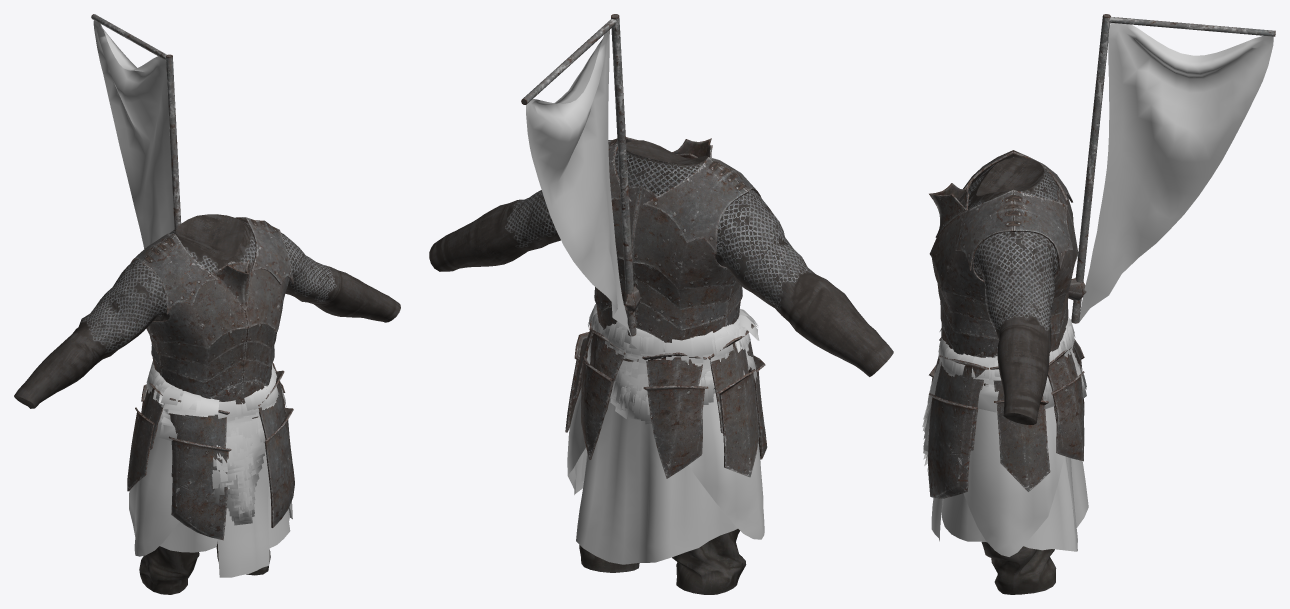
The model's file is sk_gb_uruk_chest_lord_b.fbx.
3 views of the same model, side by side, from view 1: azimuth 30°, elevation 25°; view 2: azimuth 150°, elevation 25°; view 3: azimuth 270°, elevation 25° (orthographic). The views are drawn at different scales.
Parts seen in each view (by area): view 1: sk_gb_uruk_chest_lord_b.base.2, sk_gb_uruk_chest_lord_b.base.1, sk_gb_uruk_chest_lord_b.prop.1, sk_gb_uruk_chest_lord_b.skirt.1, sk_gb_uruk_chest_lord_b.skirt.2, sk_gb_uruk_chest_lord_b.base.0, sk_gb_uruk_chest_lord_b.prop.0; view 2: sk_gb_uruk_chest_lord_b.base.2, sk_gb_uruk_chest_lord_b.base.1, sk_gb_uruk_chest_lord_b.skirt.1, sk_gb_uruk_chest_lord_b.prop.1, sk_gb_uruk_chest_lord_b.skirt.2, sk_gb_uruk_chest_lord_b.prop.0, sk_gb_uruk_chest_lord_b.base.0; view 3: sk_gb_uruk_chest_lord_b.prop.1, sk_gb_uruk_chest_lord_b.base.2, sk_gb_uruk_chest_lord_b.base.1, sk_gb_uruk_chest_lord_b.skirt.1, sk_gb_uruk_chest_lord_b.prop.0, sk_gb_uruk_chest_lord_b.skirt.2, sk_gb_uruk_chest_lord_b.base.0.
Part boxes in pixels (x1,y1,x2,y2): sk_gb_uruk_chest_lord_b.base.2: (127, 217, 294, 540); sk_gb_uruk_chest_lord_b.base.1: (14, 214, 400, 408); sk_gb_uruk_chest_lord_b.prop.1: (93, 20, 174, 248); sk_gb_uruk_chest_lord_b.skirt.1: (129, 431, 292, 577); sk_gb_uruk_chest_lord_b.skirt.2: (146, 361, 286, 525); sk_gb_uruk_chest_lord_b.base.0: (139, 542, 270, 594); sk_gb_uruk_chest_lord_b.prop.0: (91, 14, 181, 229); sk_gb_uruk_chest_lord_b.base.2: (565, 137, 767, 478); sk_gb_uruk_chest_lord_b.base.1: (429, 140, 893, 376); sk_gb_uruk_chest_lord_b.skirt.1: (567, 388, 764, 564); sk_gb_uruk_chest_lord_b.prop.1: (526, 30, 631, 336); sk_gb_uruk_chest_lord_b.skirt.2: (587, 304, 759, 424); sk_gb_uruk_chest_lord_b.prop.0: (521, 14, 640, 336); sk_gb_uruk_chest_lord_b.base.0: (579, 529, 746, 594); sk_gb_uruk_chest_lord_b.prop.1: (1079, 23, 1273, 322); sk_gb_uruk_chest_lord_b.base.2: (928, 150, 1084, 498); sk_gb_uruk_chest_lord_b.base.1: (968, 157, 1058, 424); sk_gb_uruk_chest_lord_b.skirt.1: (931, 406, 1088, 556); sk_gb_uruk_chest_lord_b.prop.0: (1068, 14, 1275, 323); sk_gb_uruk_chest_lord_b.skirt.2: (922, 317, 1086, 471); sk_gb_uruk_chest_lord_b.base.0: (981, 542, 1056, 594).
Size of the model in its own units: 1.35 by 0.973 by 1.67.
